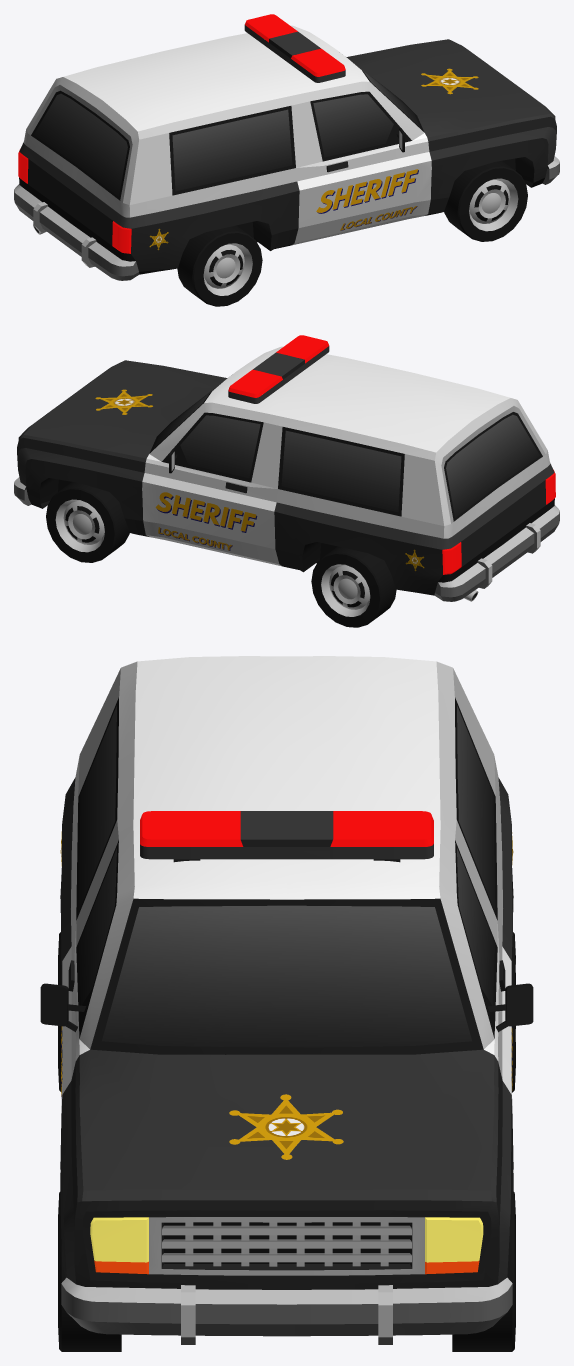
Rendered from Emergency_033.glb.
3 renders of one model, top to bottom at view 1: azimuth 30°, elevation 25°; view 2: azimuth 150°, elevation 25°; view 3: azimuth 270°, elevation 25°, orthographic. The views are drawn at different scales.
Visible parts, largest first — view 1: Emergency_033, wheel_3_Emergency_033_Wheel_2R, wheel_1_Emergency_033_Wheel_1R; view 2: Emergency_033, wheel_2_Emergency_033_Wheel_2L, wheel_0_Emergency_033_Wheel_1L; view 3: Emergency_033, wheel_0_Emergency_033_Wheel_1L, wheel_1_Emergency_033_Wheel_1R.
Boxes of the visible parts, x1,y1,x2,y2 form: Emergency_033: (14, 14, 559, 280); wheel_3_Emergency_033_Wheel_2R: (177, 225, 262, 306); wheel_1_Emergency_033_Wheel_1R: (444, 160, 527, 241); Emergency_033: (14, 335, 559, 601); wheel_2_Emergency_033_Wheel_2L: (311, 546, 396, 627); wheel_0_Emergency_033_Wheel_1L: (46, 482, 129, 562); Emergency_033: (40, 656, 533, 1344); wheel_0_Emergency_033_Wheel_1L: (452, 1192, 515, 1351); wheel_1_Emergency_033_Wheel_1R: (58, 1192, 121, 1351).
Size of the model in its own units: 4.41 by 1.76 by 2.06.
Materials: 3 (3 with a texture image).
